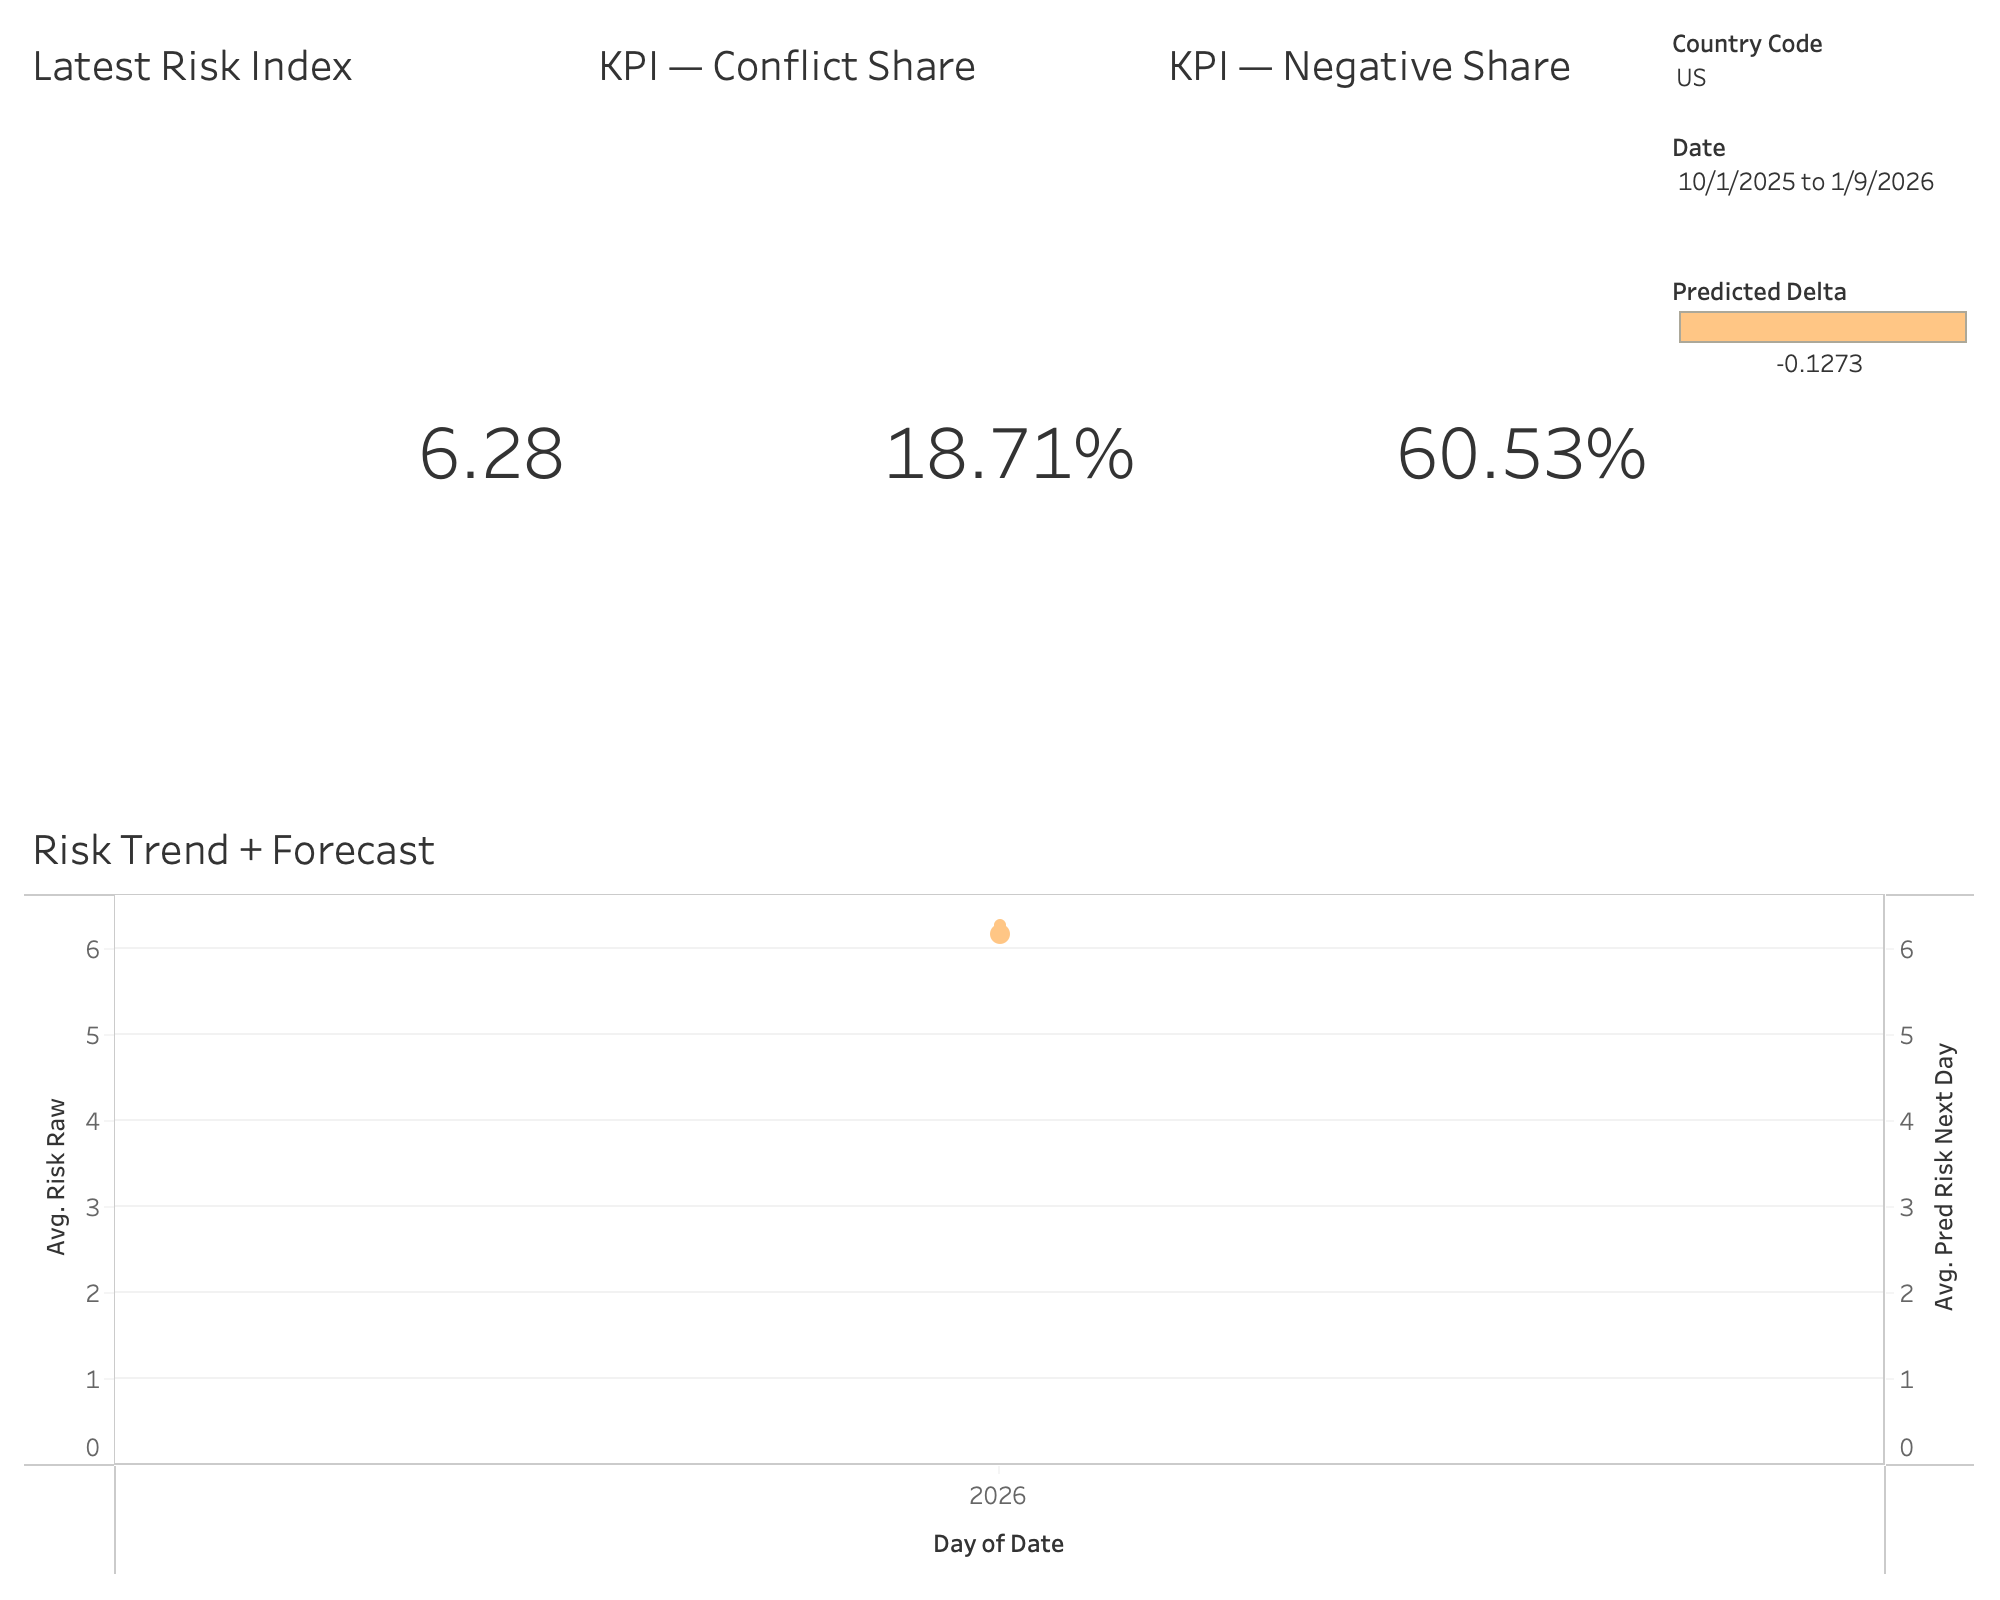

The dashboard page shown, as its layout file describes it:
{"tool":"tableau","page":{"name":"Risk Monitor","canvas":[1000,800],"ordinal":1},"visuals":[{"type":"worksheet","title":"Latest Risk Index","mark":"Text","box":[8,8,283,392]},{"type":"worksheet","title":"KPI — Conflict Share","mark":"Text","box":[291,8,285,392]},{"type":"worksheet","title":"KPI — Negative Share","mark":"Text","box":[576,8,256,392]},{"type":"filter","title":"Latest Risk Index","param":"[federated.00j5tc7106af3h1167a9c0zdy5o5].[none:CountryCode:nk]","box":[832,8,160,52]},{"type":"filter","title":"KPI — Conflict Share","param":"[federated.00j5tc7106af3h1167a9c0zdy5o5].[none:CountryCode:nk]","box":[832,60,160,52]},{"type":"filter","title":"KPI — Negative Share","param":"[federated.00j5tc7106af3h1167a9c0zdy5o5].[none:CountryCode:nk]","box":[832,112,160,52]},{"type":"filter","title":"Risk Trend","param":"[federated.00j5tc7106af3h1167a9c0zdy5o5].[none:date:qk]","box":[832,164,160,69]},{"type":"filter","title":"Risk Trend","param":"[federated.00j5tc7106af3h1167a9c0zdy5o5].[none:CountryCode:nk]","box":[832,233,160,52]},{"type":"worksheet","title":"Risk Trend","mark":"Line","rows":["risk_raw"],"cols":["date"],"box":[8,400,984,392]}]}

Visuals, with their boxes in screenshot pixels (x1, y1, x2, y2), scaled from the page's 1000x800 canvas onto the 2000x1600 screenshot:
"Latest Risk Index" worksheet (Text marks): [x1=16, y1=16, x2=582, y2=800]
"KPI — Conflict Share" worksheet (Text marks): [x1=582, y1=16, x2=1152, y2=800]
"KPI — Negative Share" worksheet (Text marks): [x1=1152, y1=16, x2=1664, y2=800]
"Latest Risk Index" filter: [x1=1664, y1=16, x2=1984, y2=120]
"KPI — Conflict Share" filter: [x1=1664, y1=120, x2=1984, y2=224]
"KPI — Negative Share" filter: [x1=1664, y1=224, x2=1984, y2=328]
"Risk Trend" filter: [x1=1664, y1=328, x2=1984, y2=466]
"Risk Trend" filter: [x1=1664, y1=466, x2=1984, y2=570]
"Risk Trend" worksheet (Line marks): [x1=16, y1=800, x2=1984, y2=1584]
